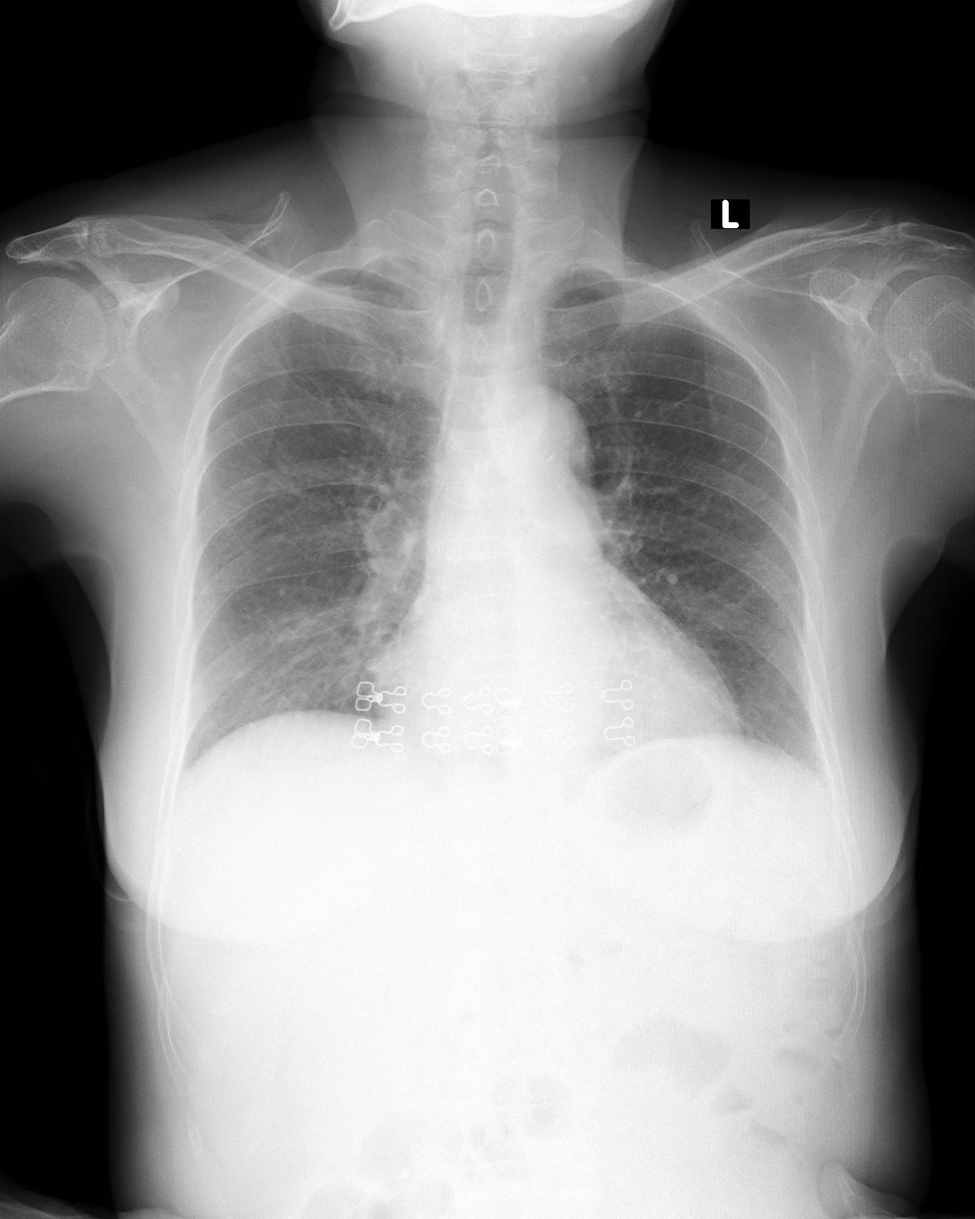Aortic enlargement: (494, 385, 590, 483)
